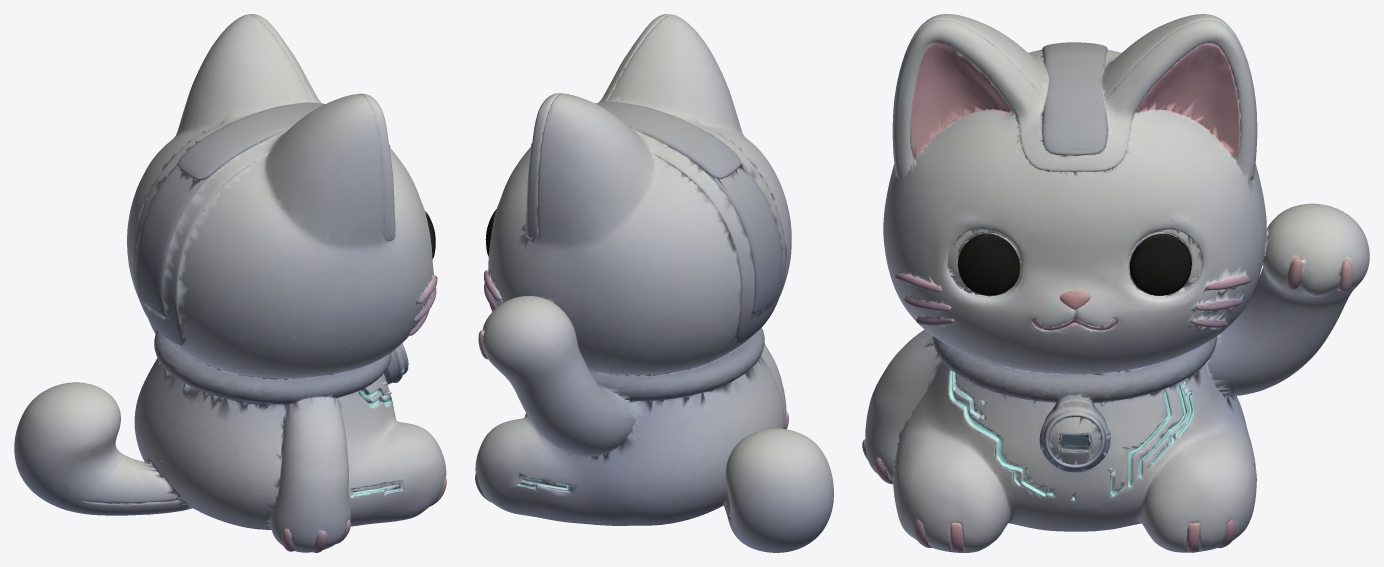
File: waypoint-maneki-neko.glb
3 views of the same model, side by side, from view 1: azimuth 30°, elevation 25°; view 2: azimuth 150°, elevation 25°; view 3: azimuth 270°, elevation 25° (orthographic). The views are drawn at different scales.
Visible parts, largest first — view 1: tripo_node_fa5c4e32-0d9f-4f40-88b4-8b1b78c0c62f; view 2: tripo_node_fa5c4e32-0d9f-4f40-88b4-8b1b78c0c62f; view 3: tripo_node_fa5c4e32-0d9f-4f40-88b4-8b1b78c0c62f.
Part boxes in pixels (x1=…): tripo_node_fa5c4e32-0d9f-4f40-88b4-8b1b78c0c62f: x1=14, y1=14, x2=446, y2=552; tripo_node_fa5c4e32-0d9f-4f40-88b4-8b1b78c0c62f: x1=475, y1=14, x2=833, y2=552; tripo_node_fa5c4e32-0d9f-4f40-88b4-8b1b78c0c62f: x1=862, y1=14, x2=1369, y2=552.
Bounding box in the file's own units: 0.8544 × 0.9788 × 0.9006.
1 material, 1 textured.
